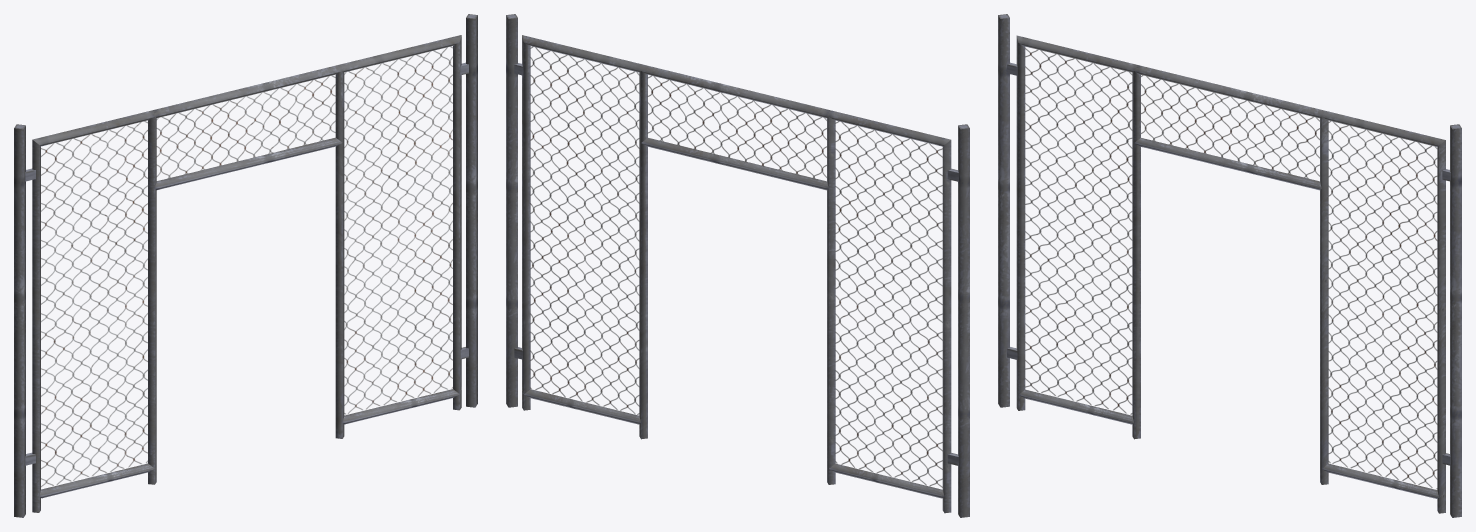
The model's file is DoorWireFence.glb.
The picture shows the model from 3 angles, left to right: view 1: azimuth 30°, elevation 25°; view 2: azimuth 150°, elevation 25°; view 3: azimuth 330°, elevation 25°; orthographic projection.
Visible parts, largest first — view 1: DP_TNR_WireFence_2_DP_TNR_WireFence_1_0; view 2: DP_TNR_WireFence_2_DP_TNR_WireFence_1_0; view 3: DP_TNR_WireFence_2_DP_TNR_WireFence_1_0.
Part boxes in pixels (left/top/right/bottom): DP_TNR_WireFence_2_DP_TNR_WireFence_1_0: left=14, top=14, right=477, bottom=517; DP_TNR_WireFence_2_DP_TNR_WireFence_1_0: left=506, top=14, right=969, bottom=517; DP_TNR_WireFence_2_DP_TNR_WireFence_1_0: left=998, top=14, right=1461, bottom=517.
Bounding box in the file's own units: 2.49 × 1.99 × 0.065.
Materials: 1 (1 with a texture image).
